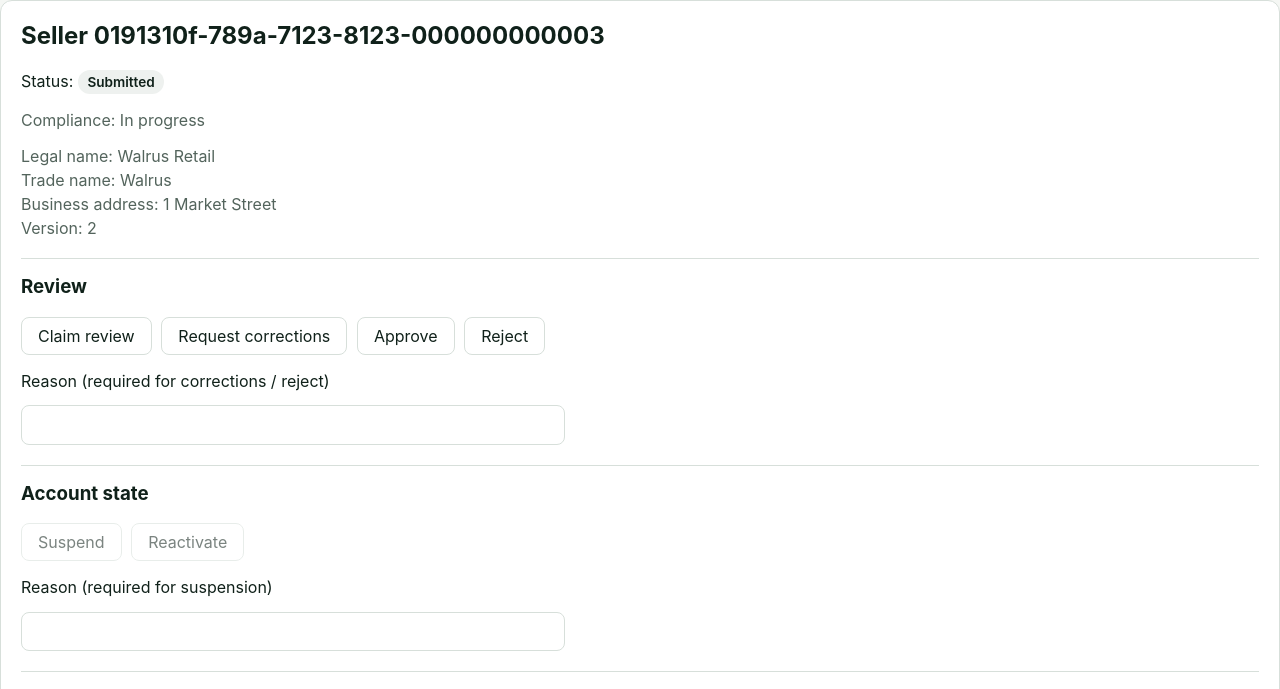
AdminSellerDetail › shows a validation notice when a reason is missing for REJECT
Step 1. Click the button "Reject" → (505, 336), box [464,317,545,355]
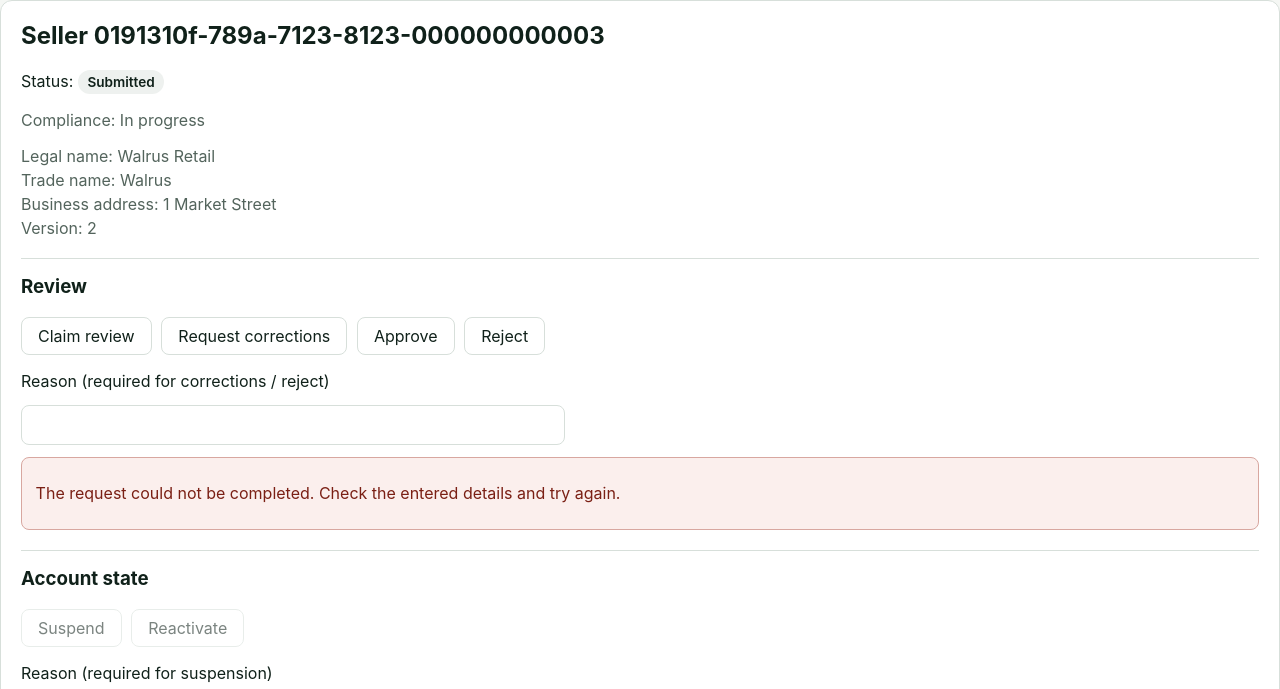
Result: the text "The request could not be completed. Check the entered details and try again." is shown at [36,483,620,503]
